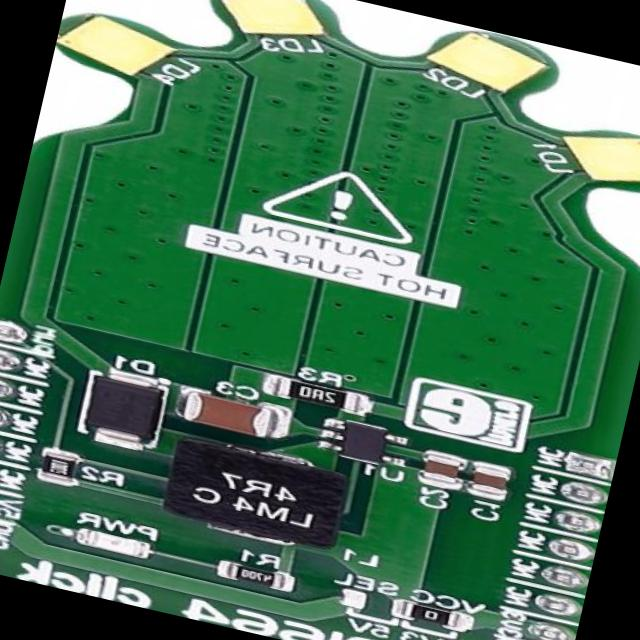IC: (164, 434, 350, 552), (318, 415, 394, 464)
LED: (427, 31, 545, 91), (56, 16, 174, 75), (564, 136, 640, 181), (225, 0, 324, 32), (73, 528, 152, 559)
capacitor: (175, 388, 278, 442), (416, 450, 466, 488), (473, 464, 512, 500)
diode: (78, 366, 170, 446)
resistor: (272, 377, 367, 415), (396, 599, 470, 632), (216, 558, 290, 590), (30, 449, 86, 485)
